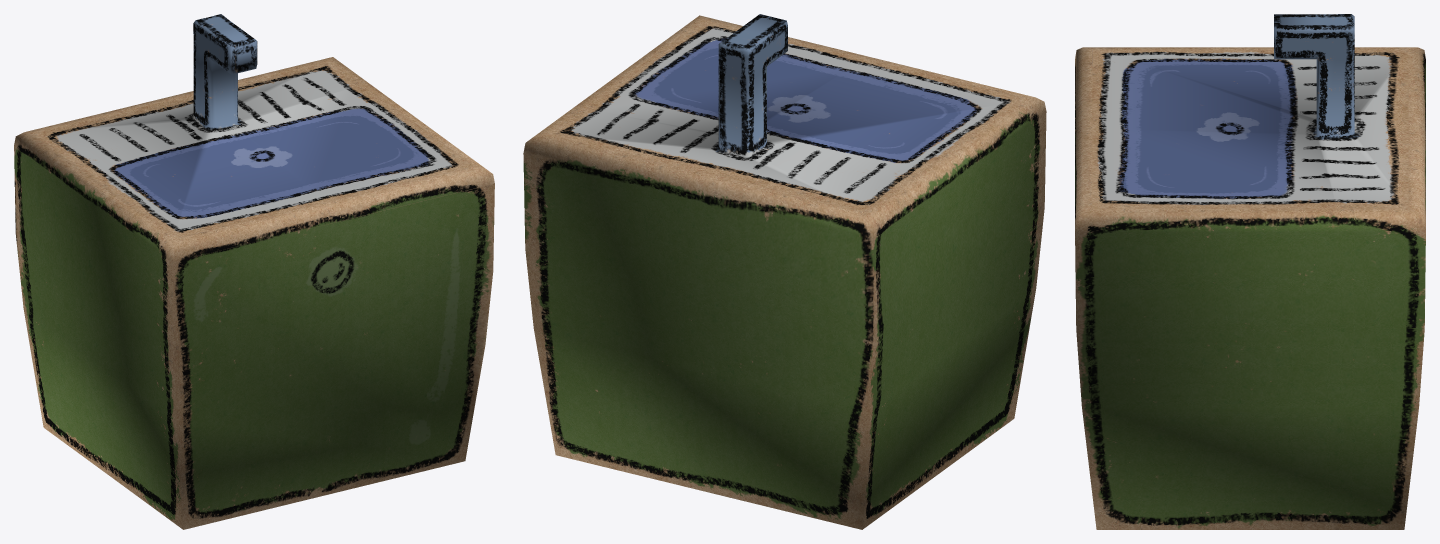
The model's file is 20s_Sink.fbx.
The picture shows the model from 3 angles, left to right: view 1: azimuth 30°, elevation 25°; view 2: azimuth 150°, elevation 25°; view 3: azimuth 270°, elevation 25°; orthographic projection. The views are drawn at different scales.
Visible parts, largest first — view 1: 20s_Sink; view 2: 20s_Sink; view 3: 20s_Sink.
Boxes of the visible parts, x1,y1,x2,y2 form: 20s_Sink: (14,14,494,529); 20s_Sink: (523,14,1046,529); 20s_Sink: (1075,14,1425,529).
Bounding box in the file's own units: 215 × 251 × 184.
